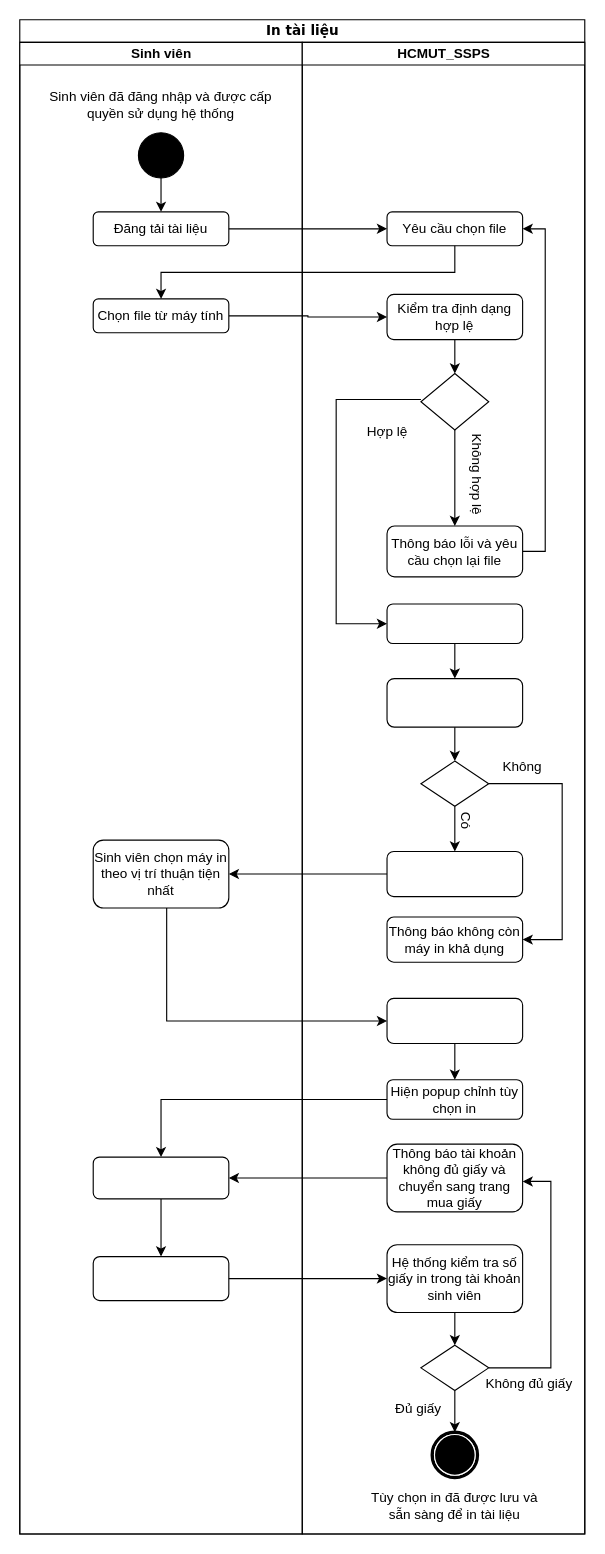
This 605x1554 diagram has some shape labels left out. Each missing label, with the centre of its shape:
Hiển thị danh sách các máy in khả dụng: point (454, 873)
Hệ thống kiểm tra các máy in khả dụng: point (454, 702)
Hệ thống xác nhận máy in được chọn: point (454, 1020)
Lưu file lên cơ sở dữ liệu: point (454, 623)
Sinh viên chọn các tùy chọn in: point (160, 1177)
Sinh viên xác nhận: point (160, 1278)
